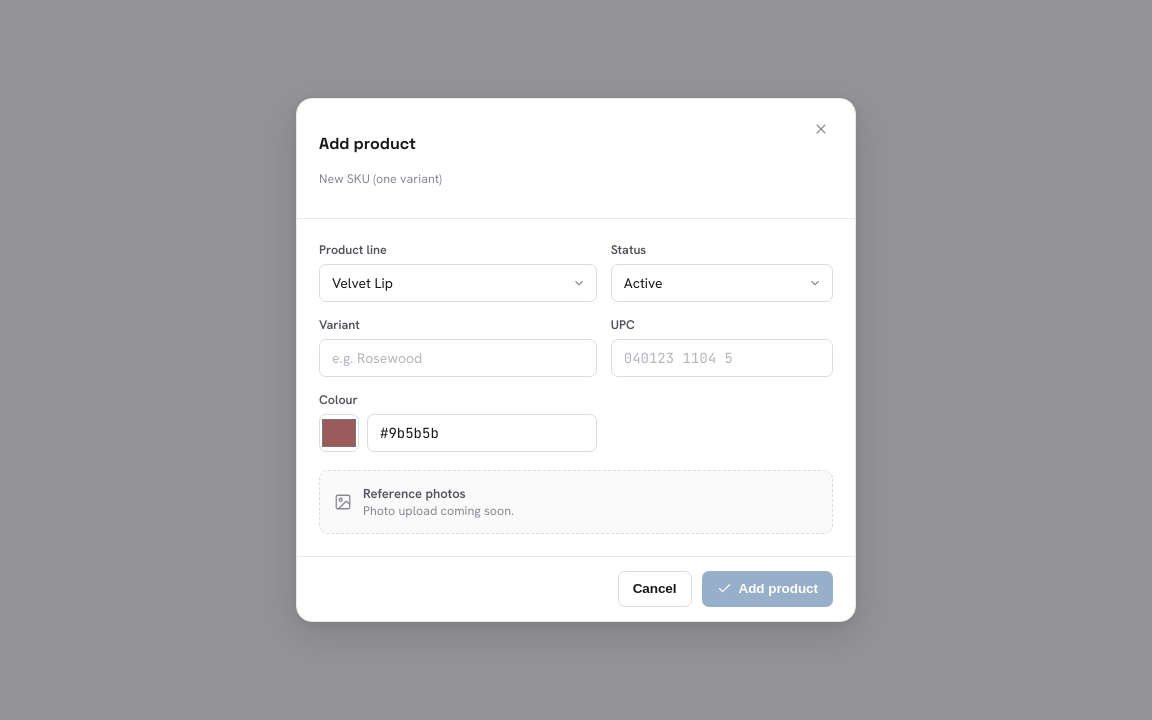
Scenario: ProductFormModal (add mode) › shows the backend error inline and stays open on failure
Type "X" into the field labelled "Variant". click: {"x": 458, "y": 358}
box: left=319, top=339, right=597, bottom=377
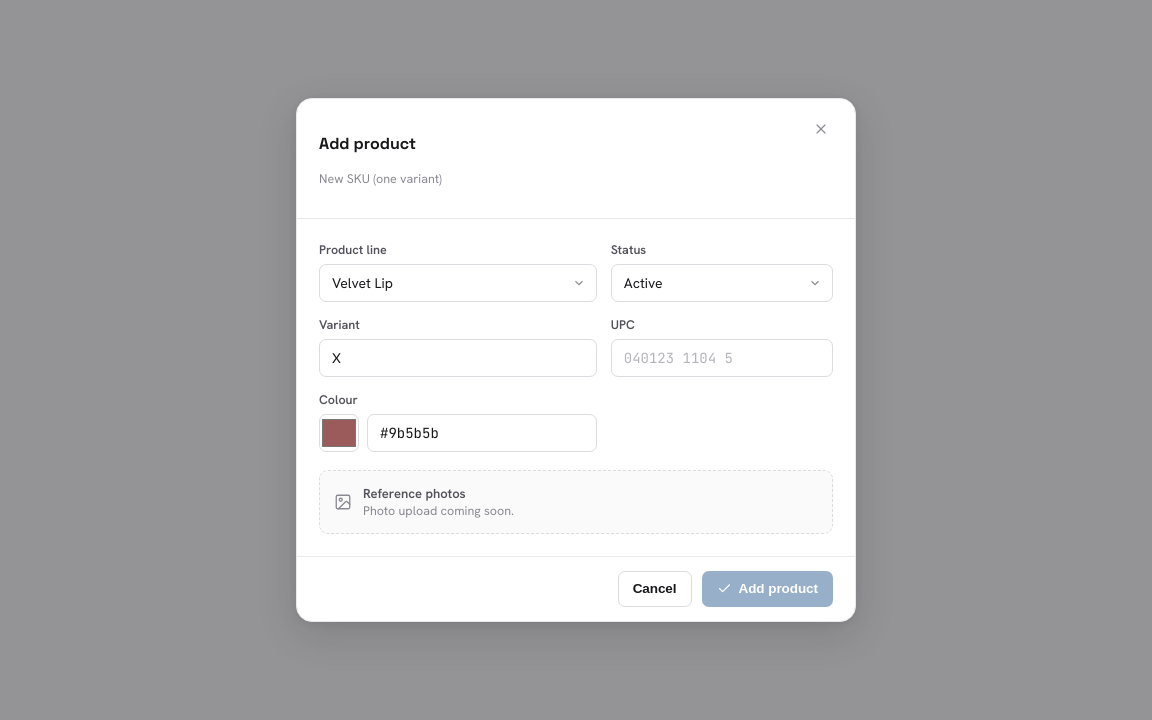
Type "dup" into the field labelled "UPC". click: {"x": 722, "y": 358}
box: left=611, top=339, right=833, bottom=377
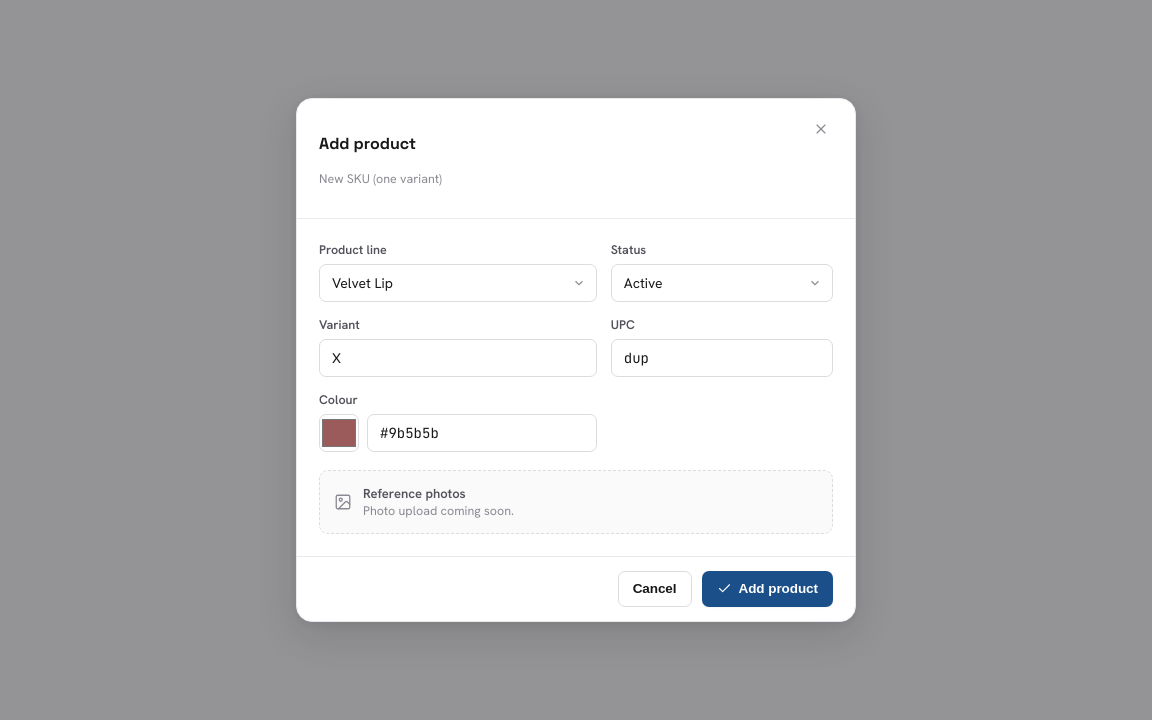
Click the button "Add product". click: {"x": 767, "y": 589}
box: left=702, top=571, right=833, bottom=607
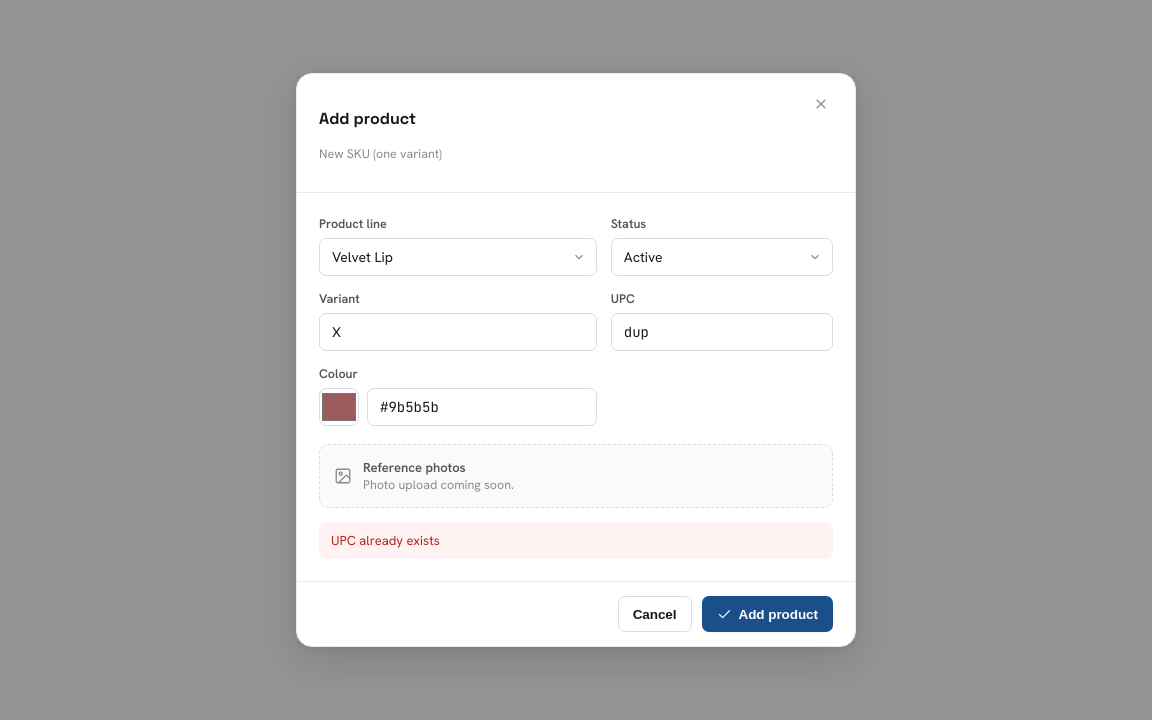
Result: the text "UPC already exists" is shown at left=319, top=522, right=833, bottom=559
